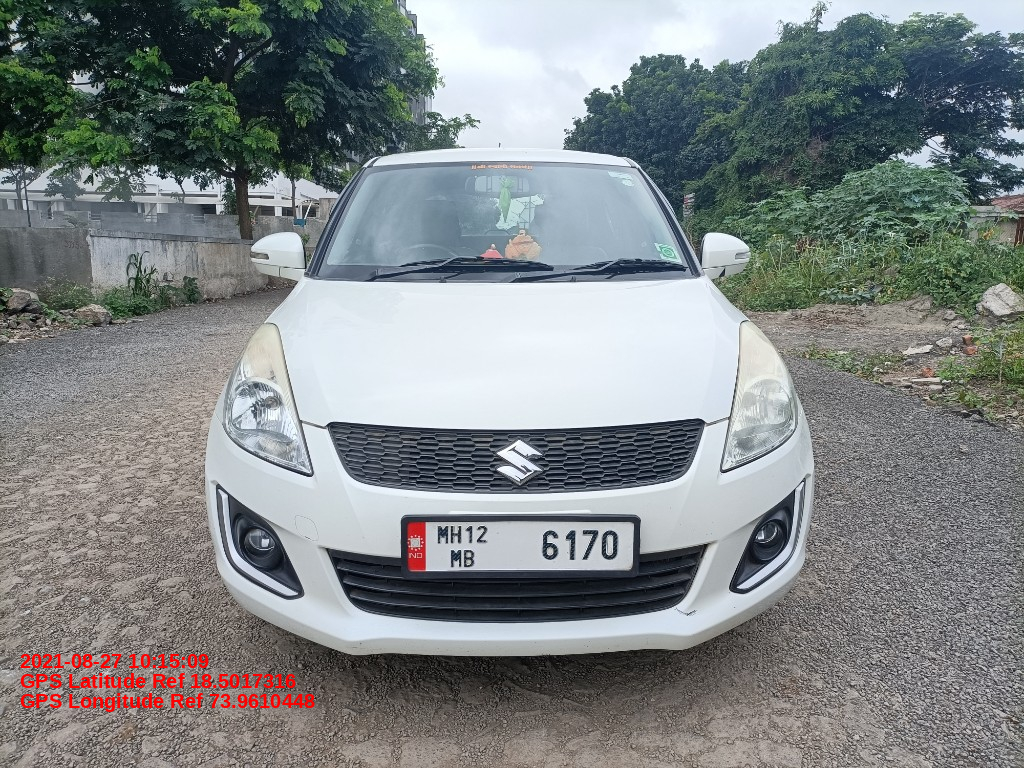Cracked: (674, 600, 702, 622)
Scratched: (348, 639, 387, 657)
